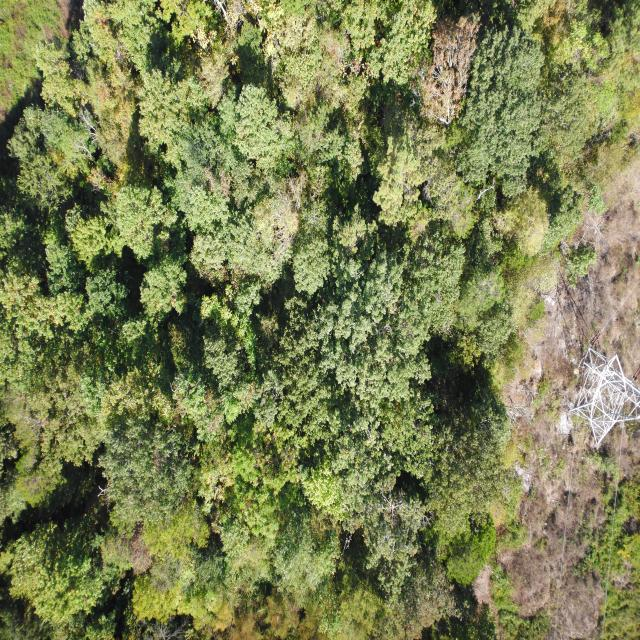Area of Interest: (13, 7, 627, 630)
